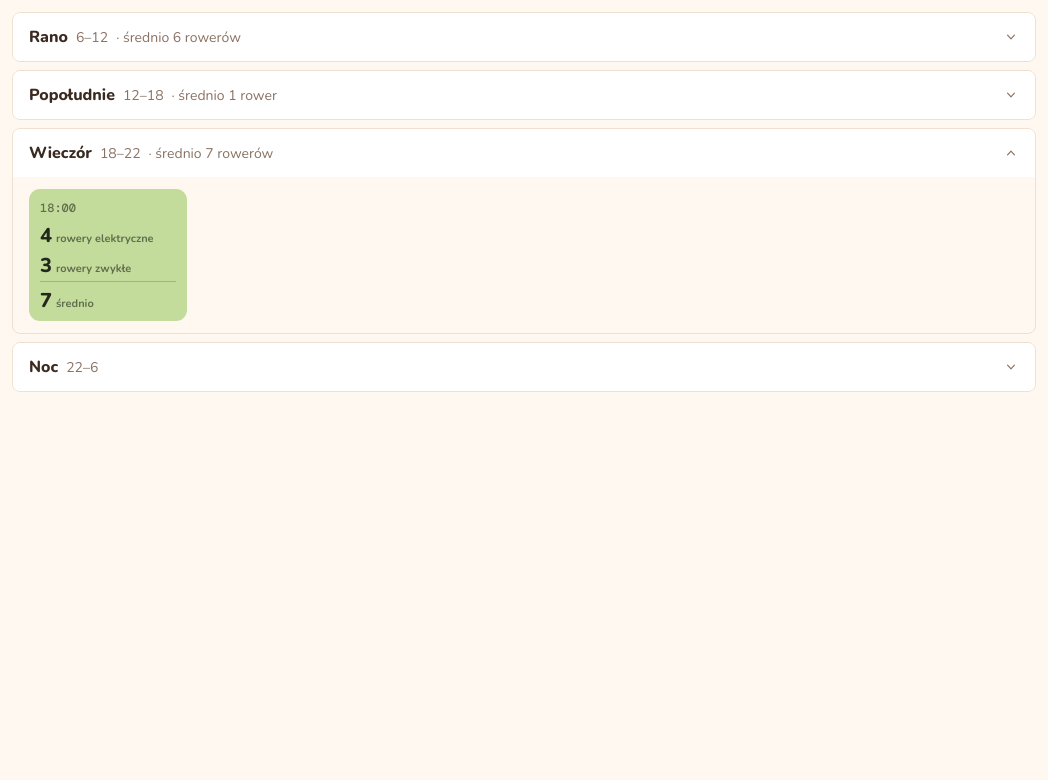
DayPartDetail clicking a collapsed section expands it
Click the button "Popołudnie12–18· średnio 1 rower".
click(72, 95)  # box [13,71,1035,119]
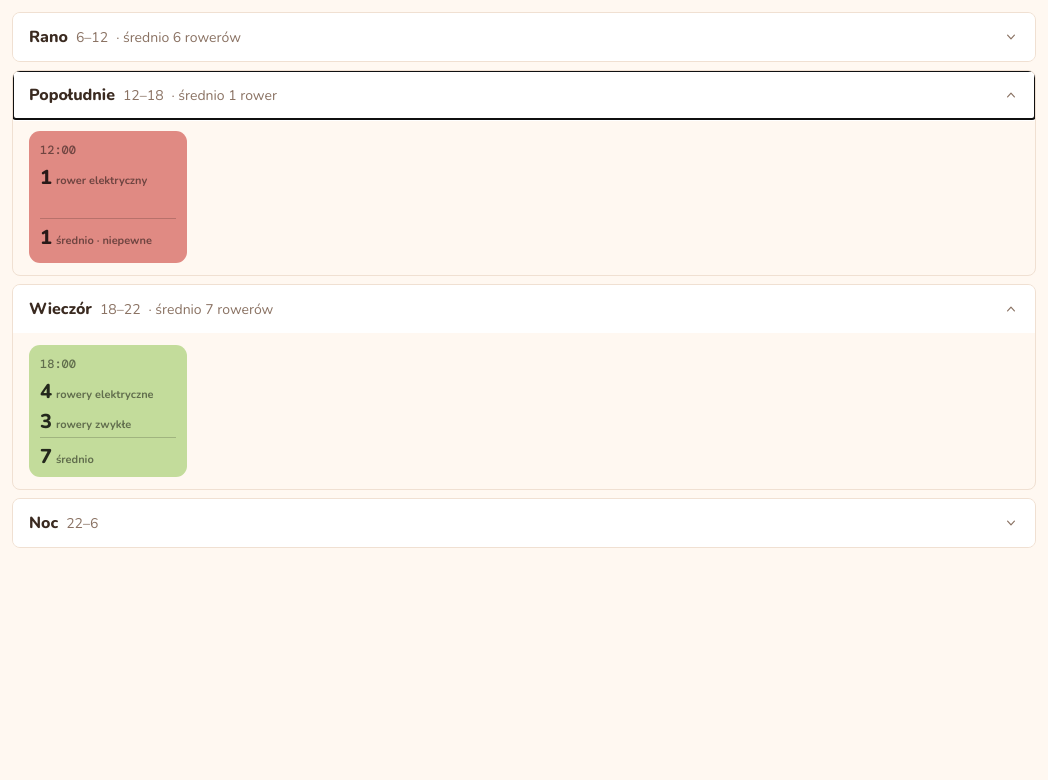
Expected: the text "12:00" is shown, [40,142,76,158]
